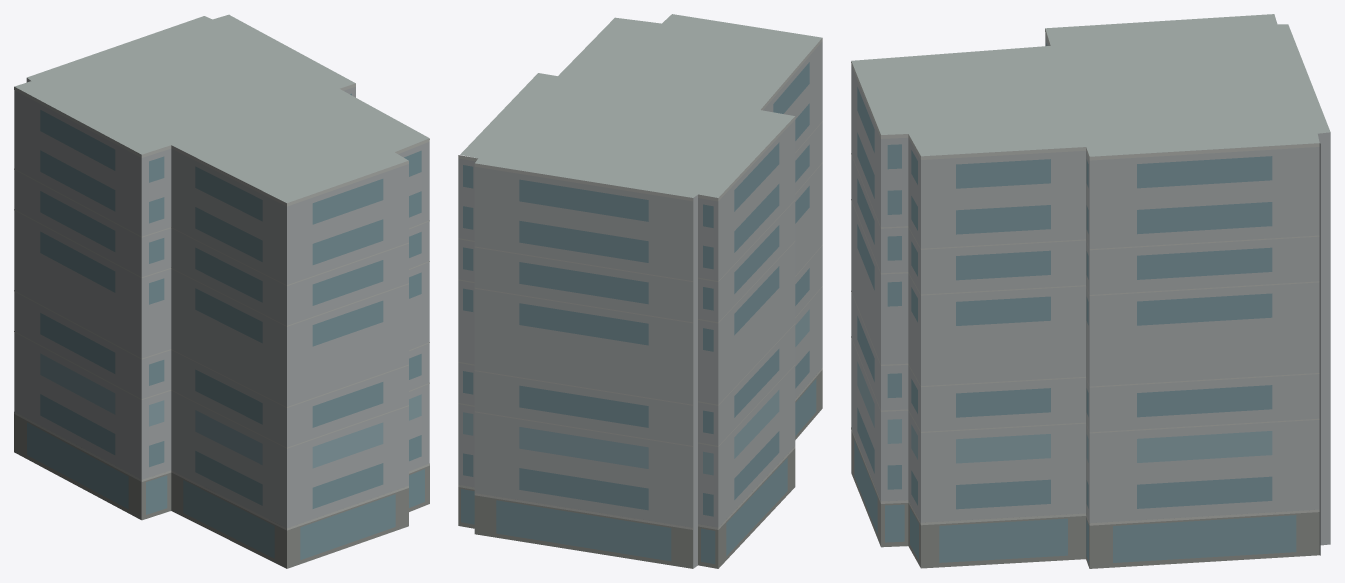
The model's file is survey-upis-32744448.glb.
3 views of the same model, side by side, from view 1: azimuth 30°, elevation 25°; view 2: azimuth 150°, elevation 25°; view 3: azimuth 270°, elevation 25° (orthographic). The views are drawn at different scales.
Visible parts, largest first — view 1: survey-upis-32744448.tmp; view 2: survey-upis-32744448.tmp; view 3: survey-upis-32744448.tmp.
Part boxes in pixels (x1=…): survey-upis-32744448.tmp: x1=14, y1=14, x2=429, y2=568; survey-upis-32744448.tmp: x1=458, y1=14, x2=822, y2=568; survey-upis-32744448.tmp: x1=851, y1=14, x2=1330, y2=568.
Size of the model in its own units: 19.64 by 26.4 by 27.86.
